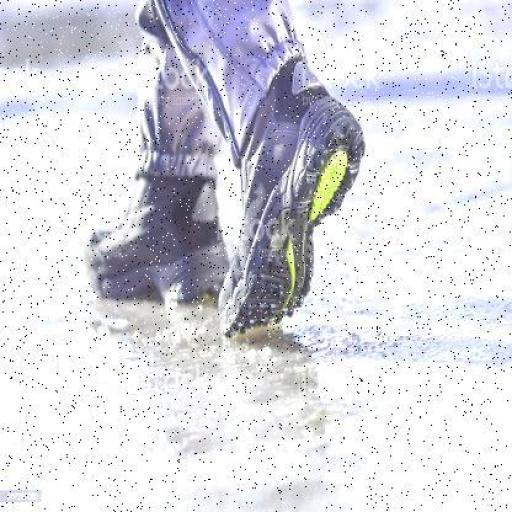safety_shoe: (222, 64, 356, 335), (87, 161, 227, 299)
